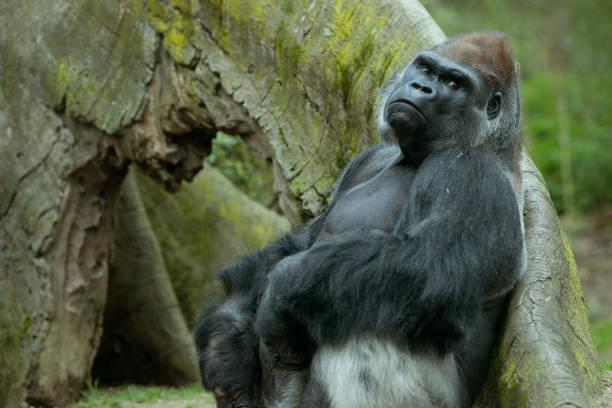gorille_Autres: (206, 0, 552, 408)
